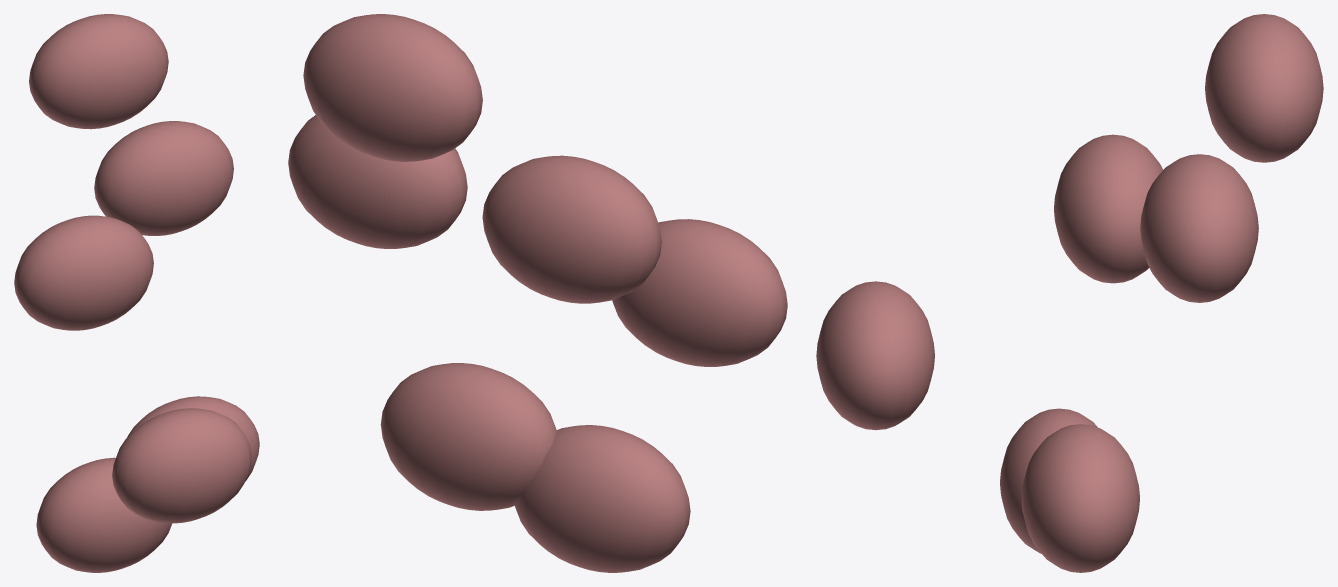
The model's file is male-reproductive.glb.
3 renders of one model, left to right at view 1: azimuth 30°, elevation 25°; view 2: azimuth 150°, elevation 25°; view 3: azimuth 270°, elevation 25°, orthographic. The views are drawn at different scales.
Parts seen in each view (by area): view 1: dev-marker-penis, dev-marker-prostate, dev-marker-seminal-vesicles, dev-marker-vas-deferens, dev-marker-testes, dev-marker-epididymis; view 2: dev-marker-prostate, dev-marker-seminal-vesicles, dev-marker-epididymis, dev-marker-testes, dev-marker-penis, dev-marker-vas-deferens; view 3: dev-marker-penis, dev-marker-seminal-vesicles, dev-marker-epididymis, dev-marker-vas-deferens, dev-marker-prostate, dev-marker-testes.
Part boxes in pixels (left/top/right/bottom): dev-marker-penis: left=112, top=408, right=251, bottom=523; dev-marker-prostate: left=14, top=215, right=153, bottom=330; dev-marker-seminal-vesicles: left=29, top=14, right=168, bottom=129; dev-marker-vas-deferens: left=94, top=121, right=233, bottom=235; dev-marker-testes: left=36, top=457, right=172, bottom=572; dev-marker-epididymis: left=127, top=396, right=259, bottom=481; dev-marker-prostate: left=482, top=155, right=661, bottom=303; dev-marker-seminal-vesicles: left=303, top=14, right=482, bottom=161; dev-marker-epididymis: left=380, top=363, right=557, bottom=510; dev-marker-testes: left=515, top=425, right=690, bottom=572; dev-marker-penis: left=612, top=219, right=787, bottom=366; dev-marker-vas-deferens: left=288, top=115, right=467, bottom=248; dev-marker-penis: left=816, top=281, right=934, bottom=430; dev-marker-seminal-vesicles: left=1205, top=14, right=1323, bottom=162; dev-marker-epididymis: left=1021, top=424, right=1139, bottom=572; dev-marker-vas-deferens: left=1140, top=154, right=1258, bottom=302; dev-marker-prostate: left=1054, top=134, right=1162, bottom=283; dev-marker-testes: left=1000, top=408, right=1097, bottom=553.
Bounding box in the file's own units: 0.32 × 0.58 × 0.47.
